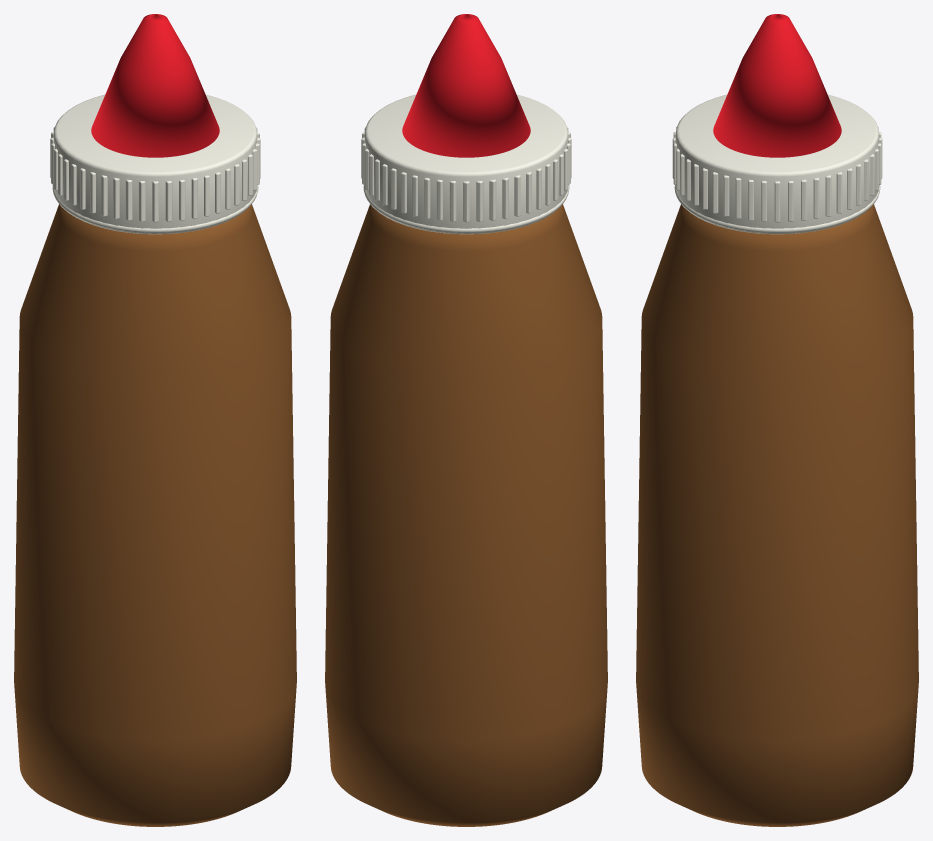
File: fridge_contents__squeeze_sauce_bottle.glb
3 views of the same model, side by side, from view 1: azimuth 30°, elevation 25°; view 2: azimuth 150°, elevation 25°; view 3: azimuth 270°, elevation 25° (orthographic).
Visible parts, largest first — view 1: hollow container, removable closure, tapered nozzle, closure lower bead; view 2: hollow container, removable closure, tapered nozzle, closure lower bead; view 3: hollow container, removable closure, tapered nozzle, closure lower bead.
Boxes of the visible parts, bbox=[...] form: hollow container: bbox=[14, 204, 296, 826]; removable closure: bbox=[53, 94, 257, 234]; tapered nozzle: bbox=[91, 14, 219, 157]; closure lower bead: bbox=[52, 185, 258, 233]; hollow container: bbox=[325, 204, 607, 826]; removable closure: bbox=[364, 94, 568, 234]; tapered nozzle: bbox=[402, 14, 530, 157]; closure lower bead: bbox=[363, 185, 569, 233]; hollow container: bbox=[636, 204, 918, 826]; removable closure: bbox=[675, 94, 879, 234]; tapered nozzle: bbox=[713, 14, 841, 157]; closure lower bead: bbox=[674, 185, 880, 233].
Size of the model in its own units: 0.055 by 0.166 by 0.055.
